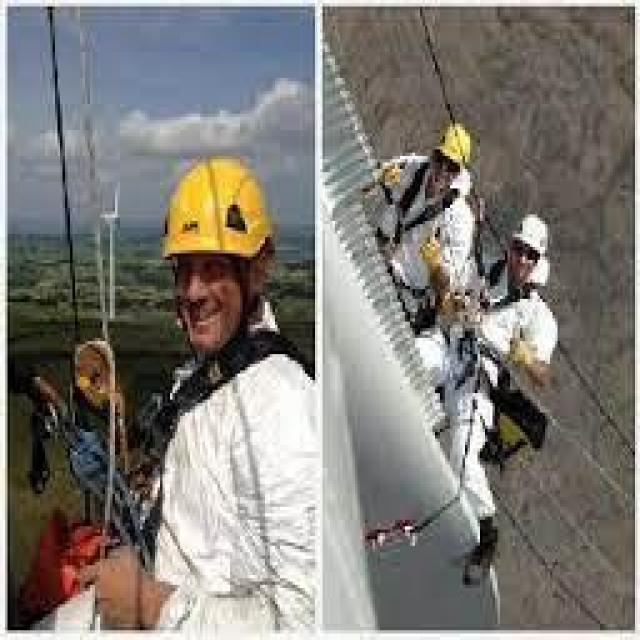Safety-Helmet: (145, 146, 295, 283), (60, 328, 128, 409), (500, 205, 562, 273), (425, 114, 485, 178)
